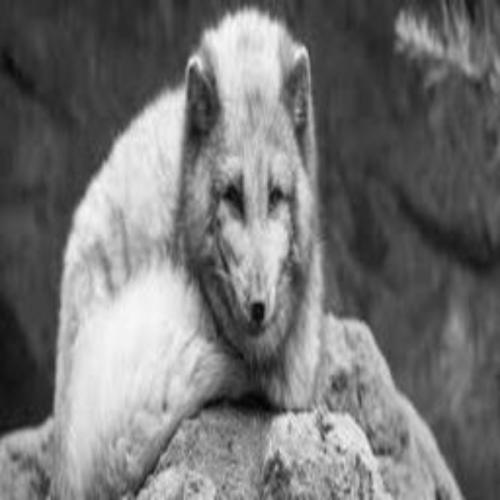arctic_fox-endangered: (55, 12, 330, 500)
